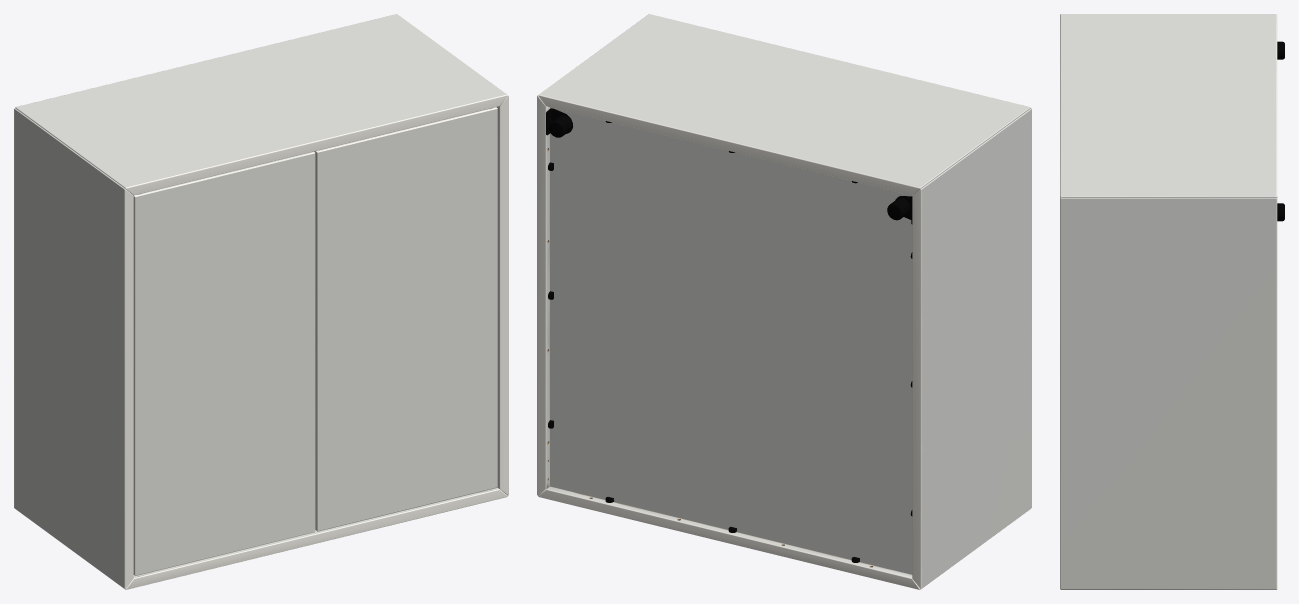
Rendered from 27 - EKET Cabinet w 2 doors and 1 shelf - white 70x35x70 cm.glb.
The picture shows the model from 3 angles, left to right: view 1: azimuth 30°, elevation 25°; view 2: azimuth 150°, elevation 25°; view 3: azimuth 270°, elevation 25°; orthographic projection. The views are drawn at different scales.
Parts seen in each view (by area): view 1: model; view 2: model; view 3: model.
Part boxes in pixels (box(x1,y1,x2,y2)): model: box(14, 14, 508, 589); model: box(537, 14, 1031, 589); model: box(1060, 14, 1284, 589).
Size of the model in its own units: 0.7 by 0.7 by 0.3621.
Materials: 1 (1 with a texture image).
